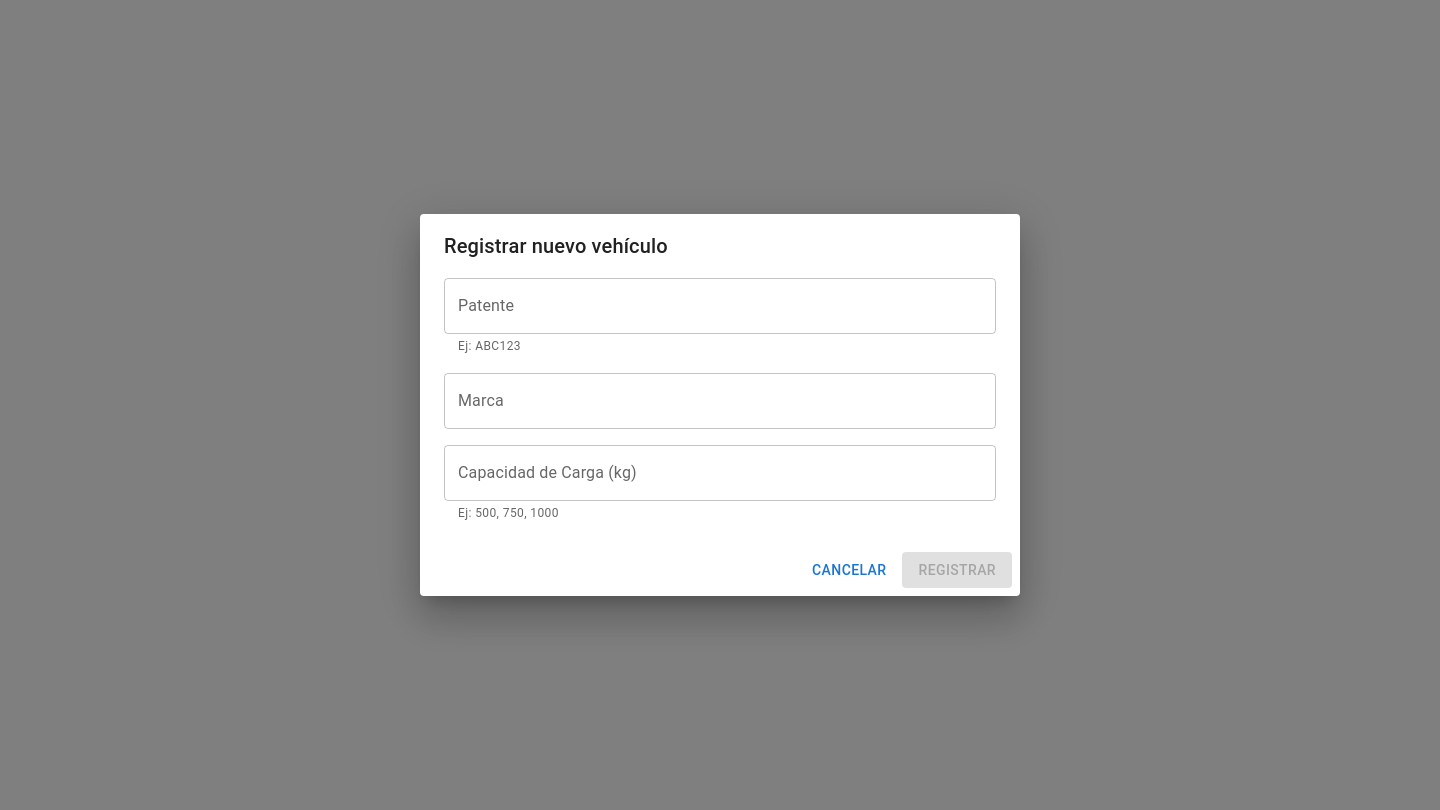
Test: VehicleForm › CP-32 y CP-60 bloquea registro cuando patente ya existe
This screenshot has width=1440, height=810.
Type "AB123CD" into the field labelled "Patente" at x=720, y=306, box [444,278,996,334]
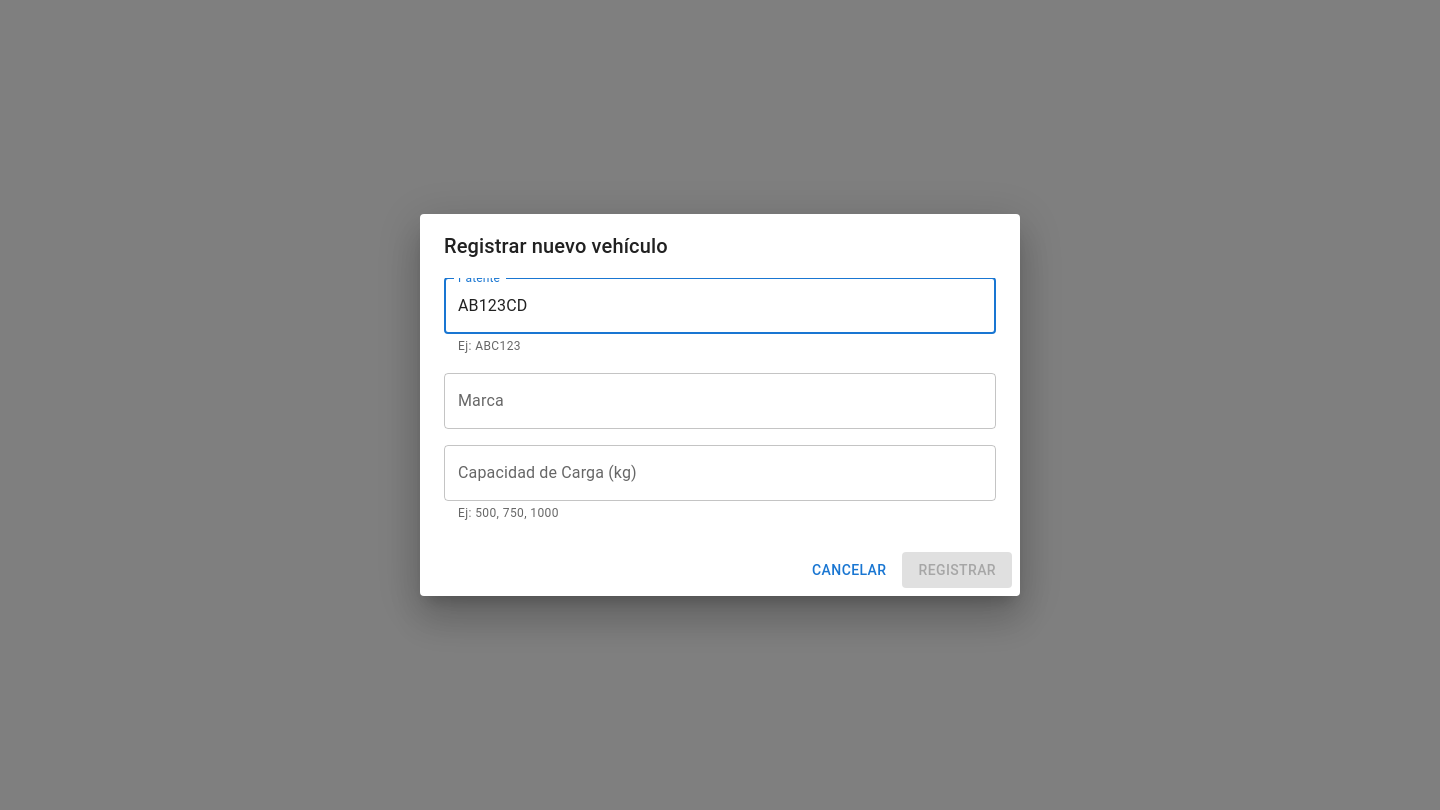
Type "Ford" into the field labelled "Marca" at x=720, y=401, box [444,373,996,429]
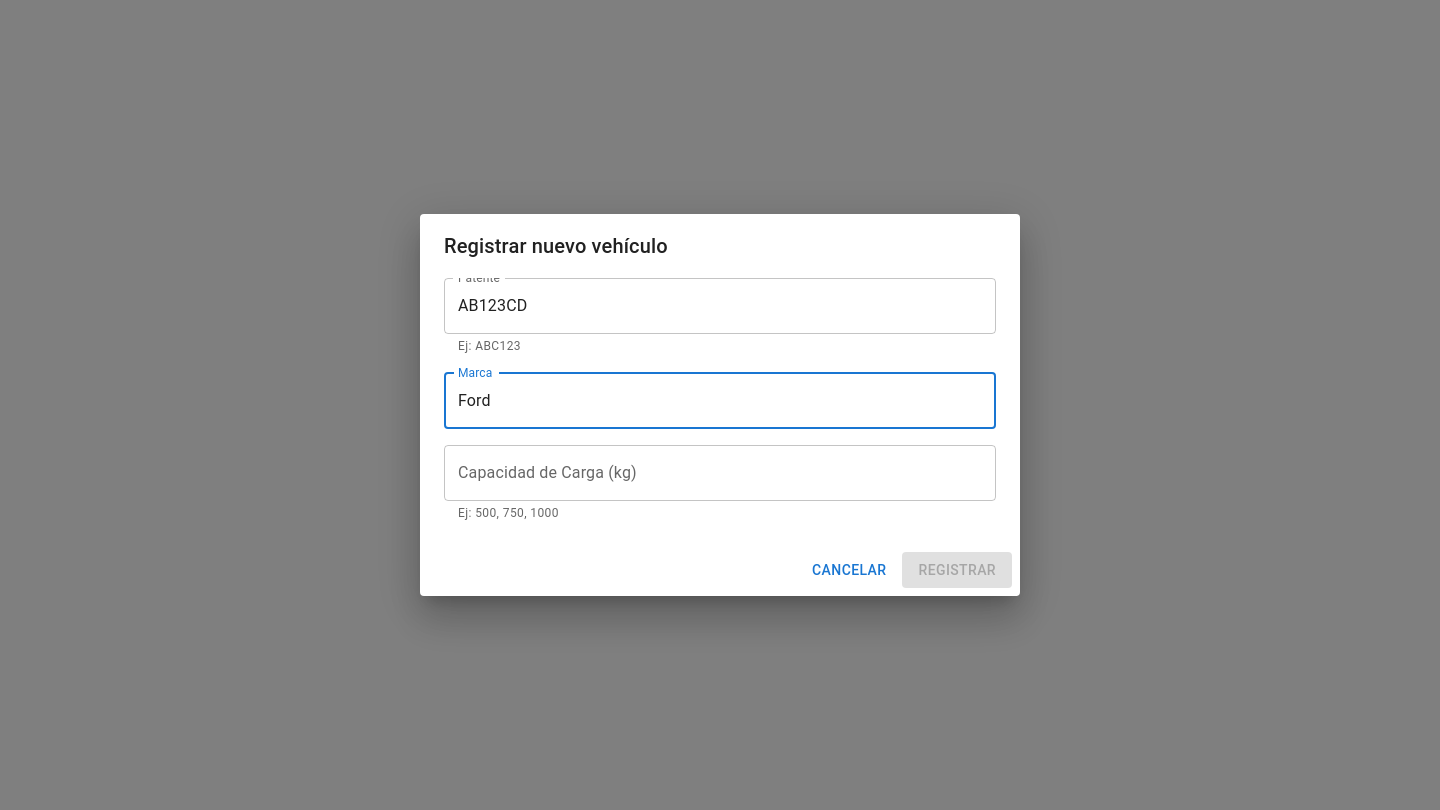
Type "300" into the number field labelled "Capacidad de Carga (kg)" at x=720, y=473, box [444,445,996,501]
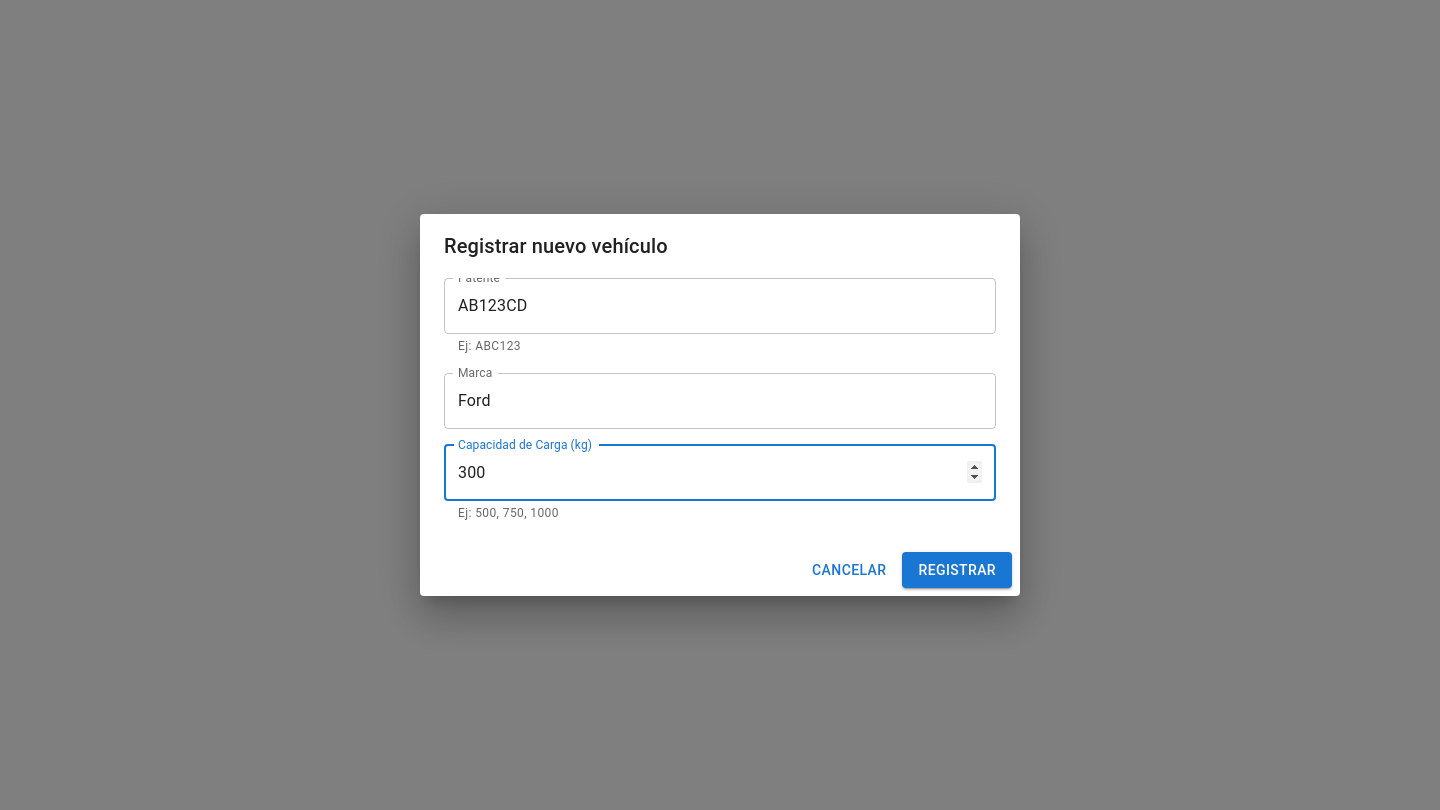
Click the button "Registrar" at x=957, y=570, box [902,552,1012,588]
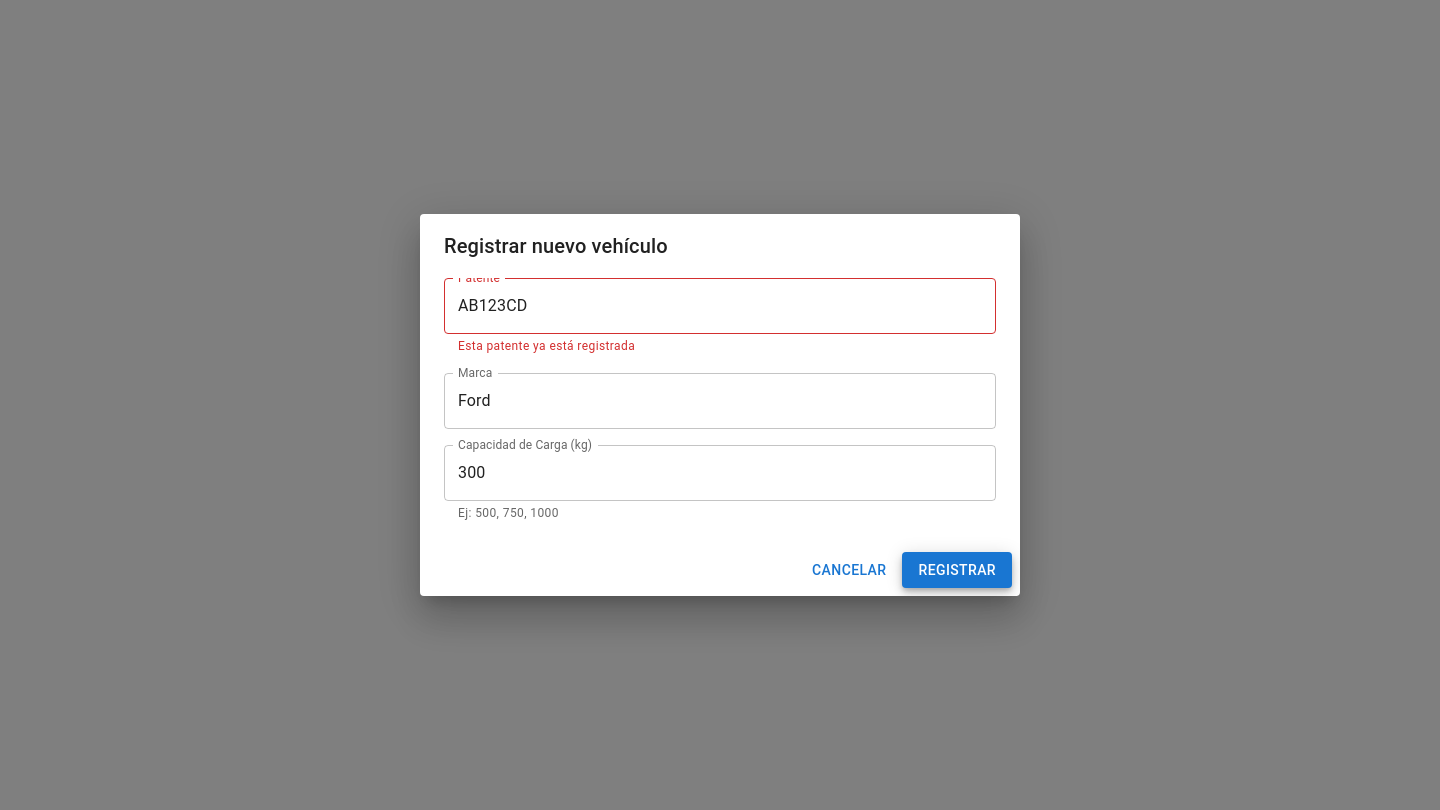
Check: the text "Esta patente ya está registrada" is shown, box [458,339,635,353]
